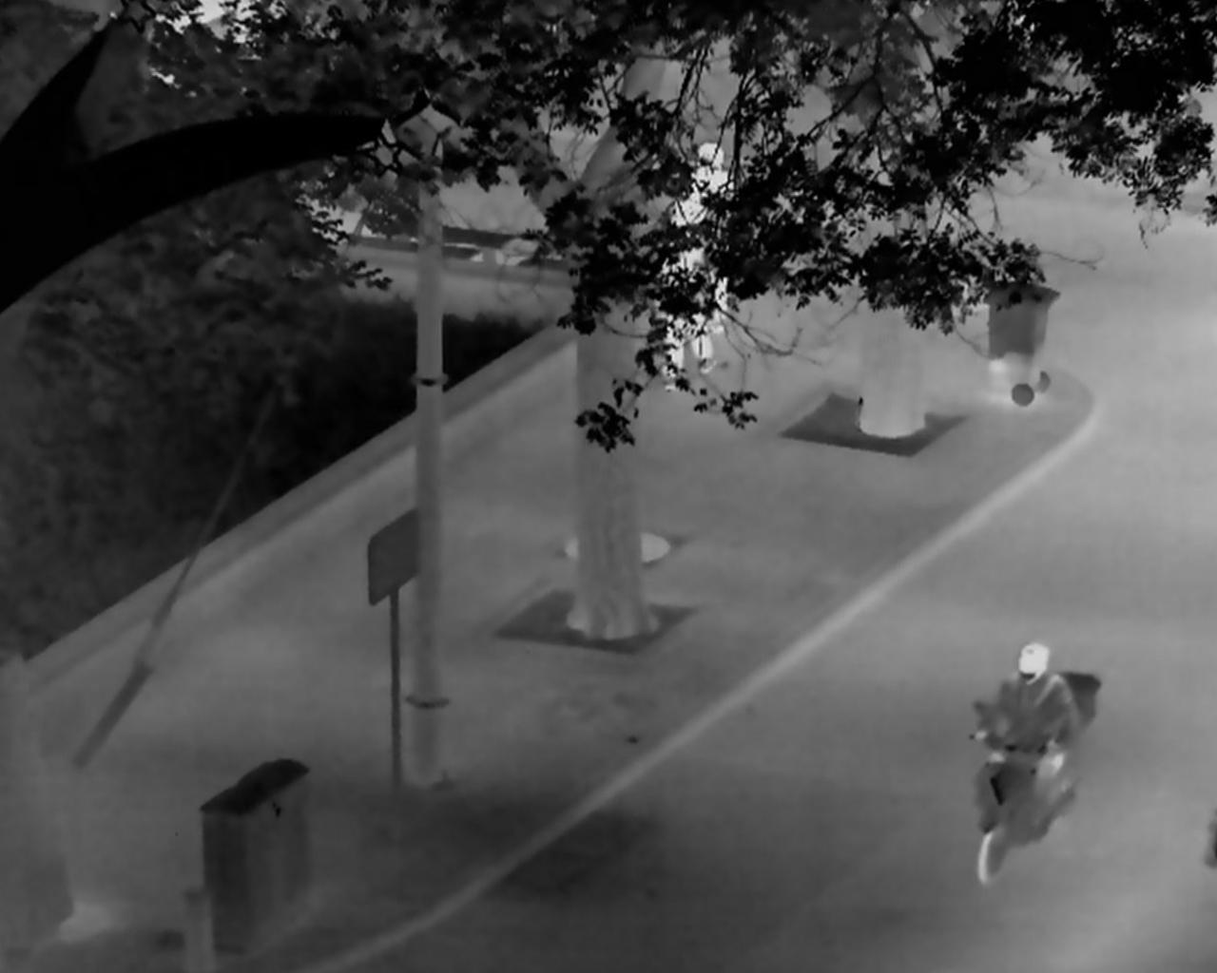person: (967, 640, 1080, 831), (654, 198, 720, 390), (687, 142, 736, 332)
